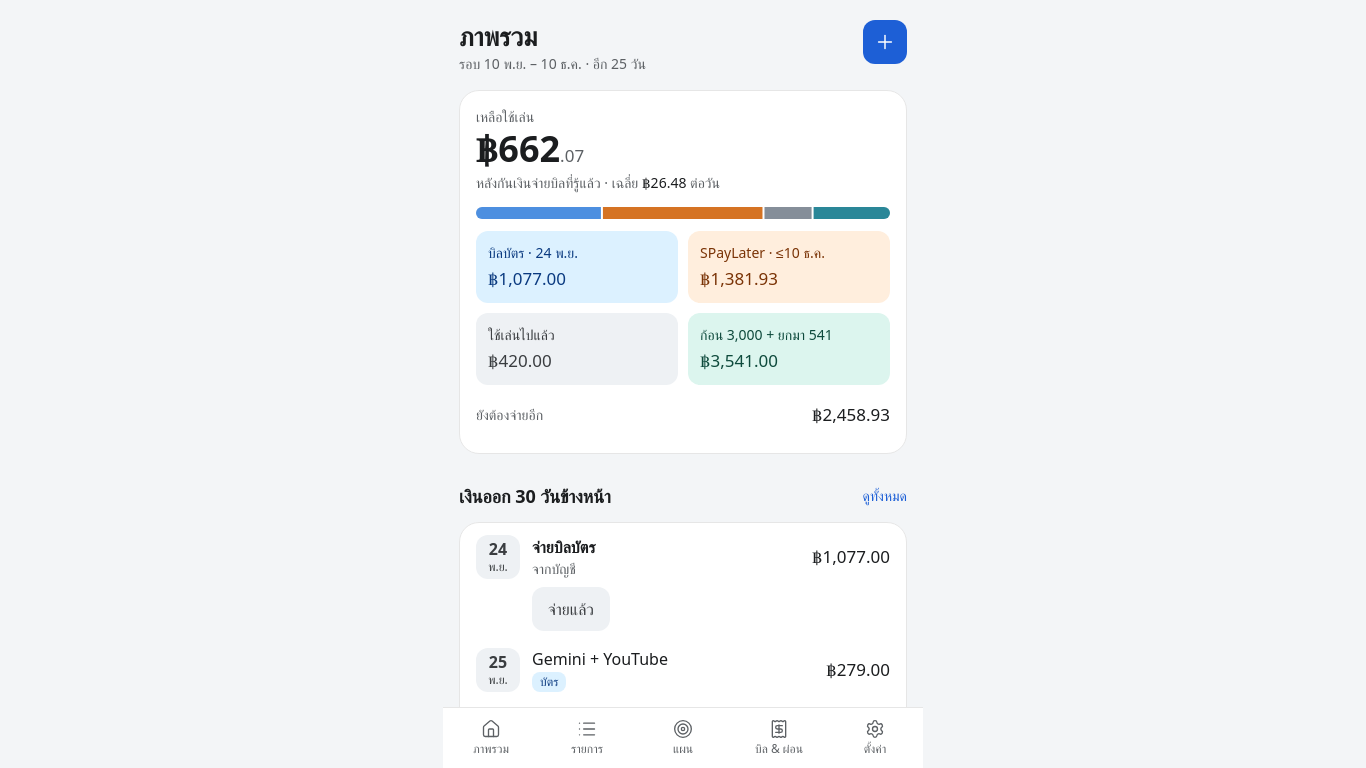
Scenario: <PreviewHome> › add sheet › does not count the amount into the play budget when the switch is off
Click the button named "เพิ่มรายการ".
click(885, 42)  # box 863,20 -> 907,64
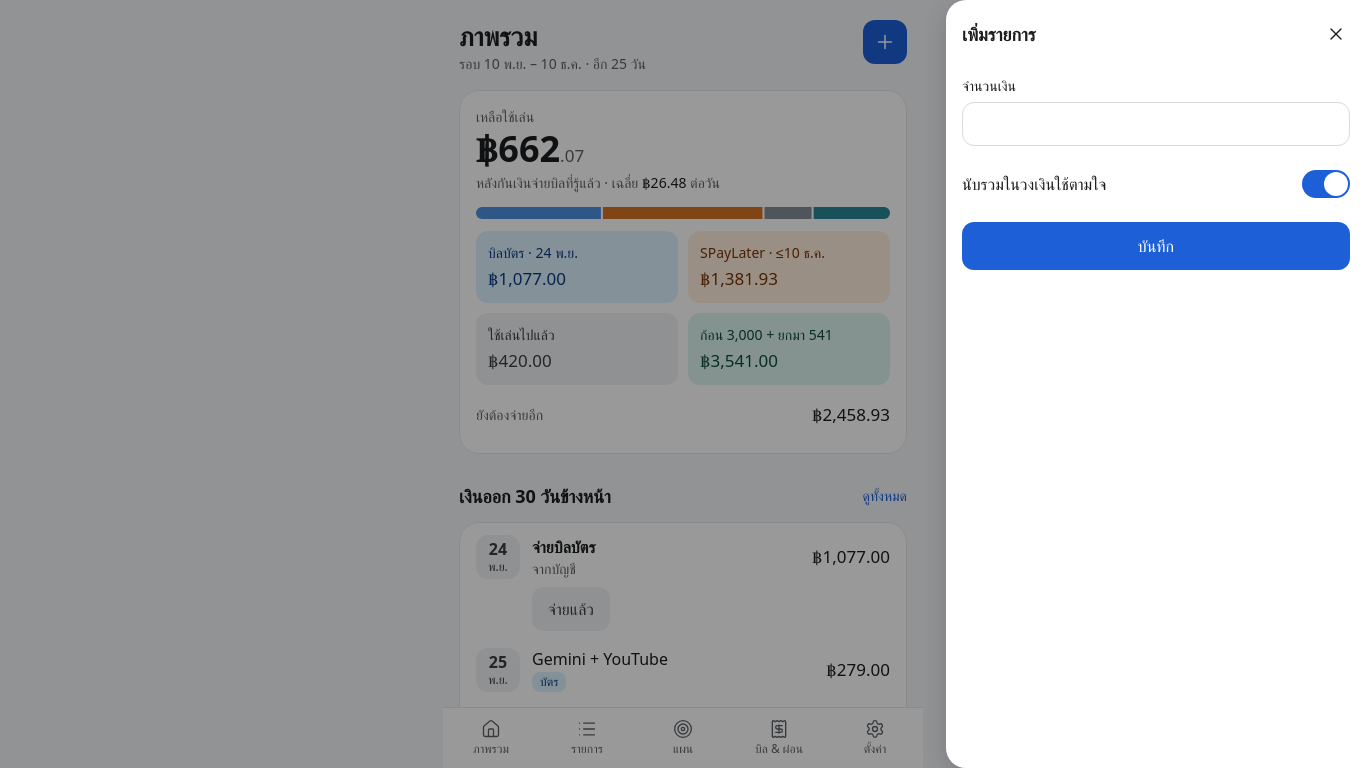
Type "100" into the field labelled "จำนวนเงิน".
click(1156, 124); type("100")  # box 962,102 -> 1350,146
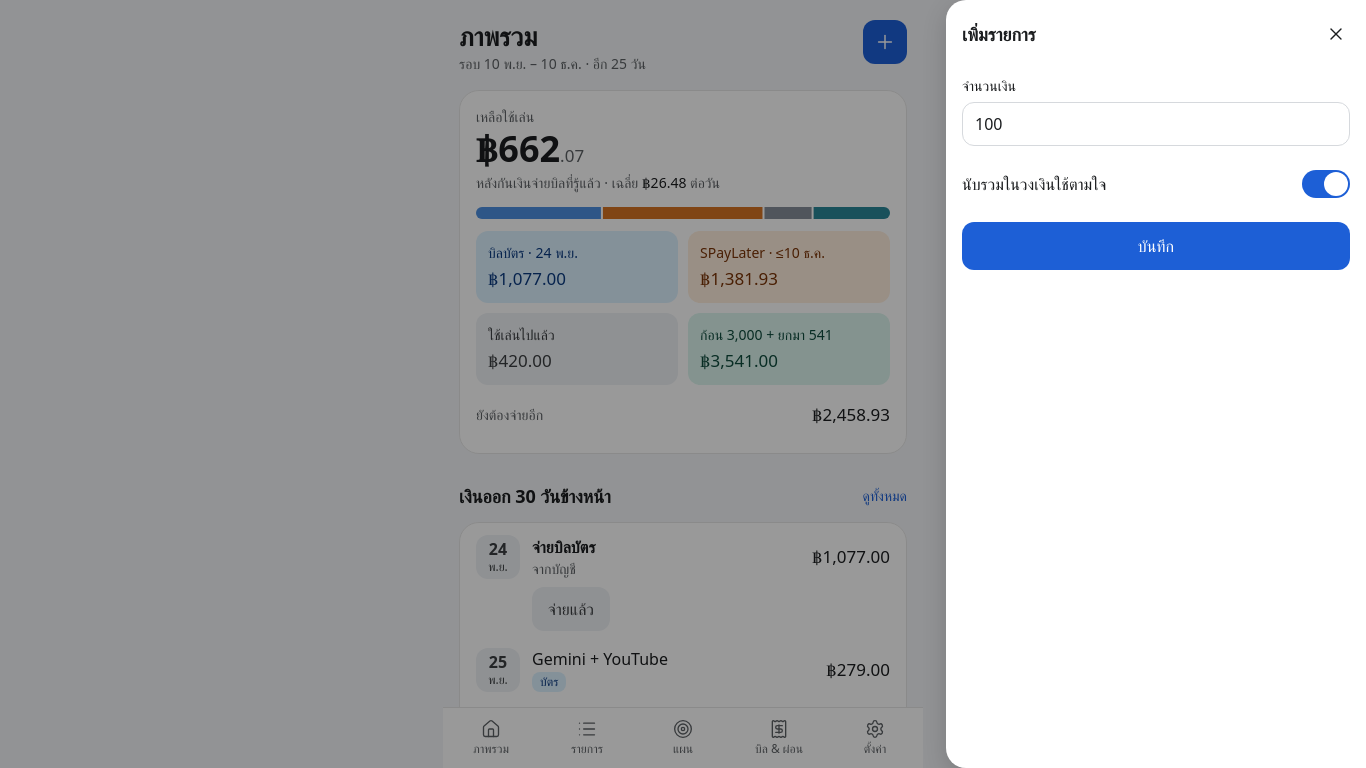
Click the switch labelled "นับรวมในวงเงินใช้ตามใจ".
click(1034, 184)  # box 962,162 -> 1350,206
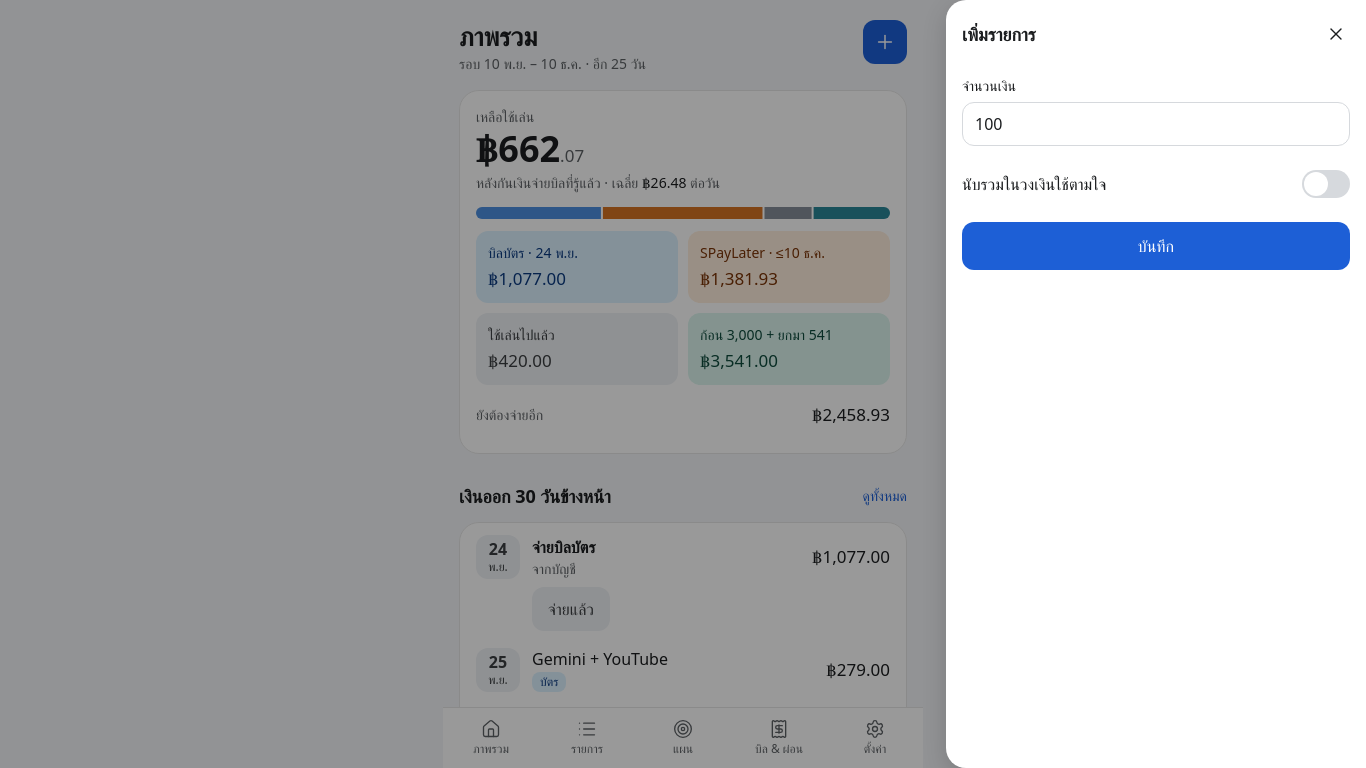
Click the button "บันทึก".
click(1156, 246)  # box 962,222 -> 1350,270
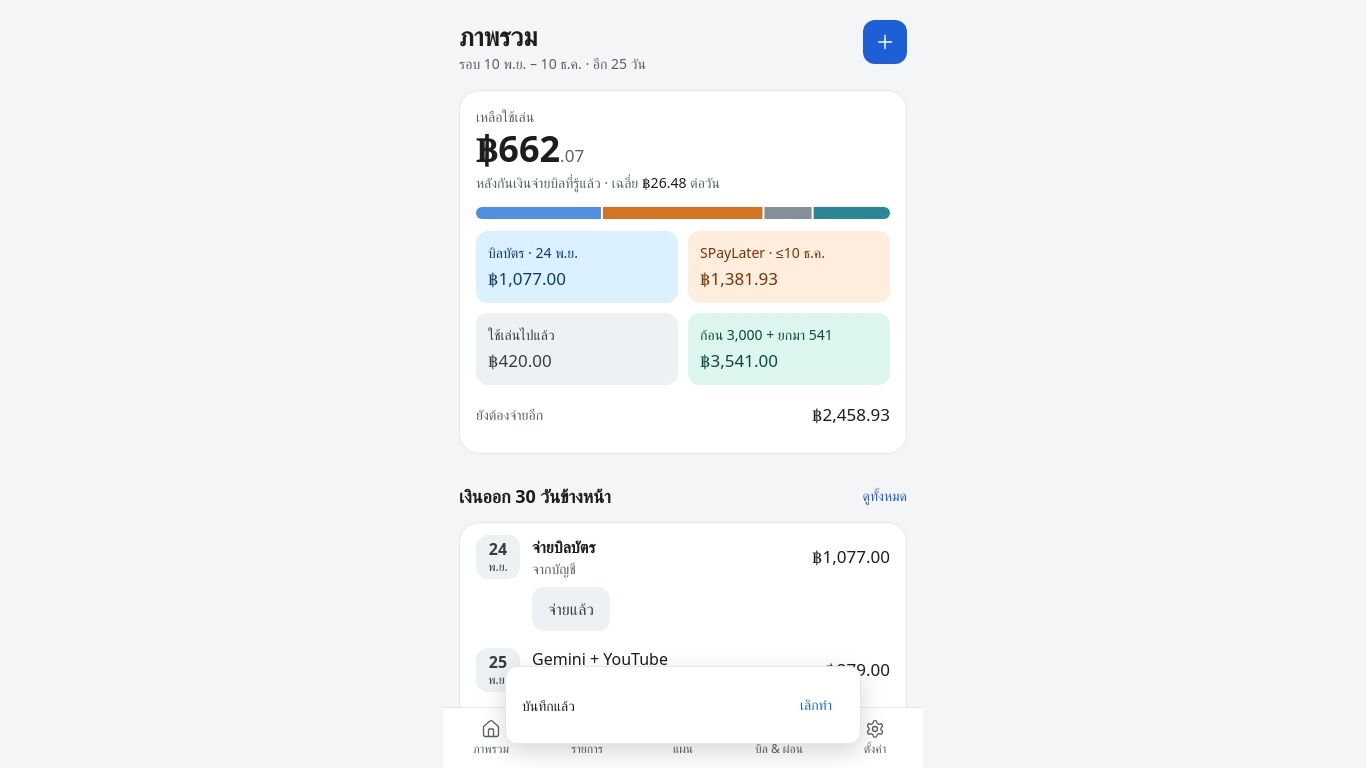
Expected: the element with test id "play-left" reads "฿662.07", 476,124 -> 584,173
Now the text "บันทึกแล้ว" is shown, box 522,694 -> 575,716
